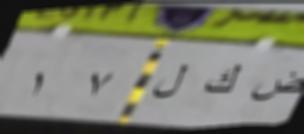1: (28, 67, 52, 100)
4: (252, 67, 304, 104)
7: (80, 68, 121, 100)
kaaf: (203, 59, 245, 100)
laam: (150, 62, 190, 102)
